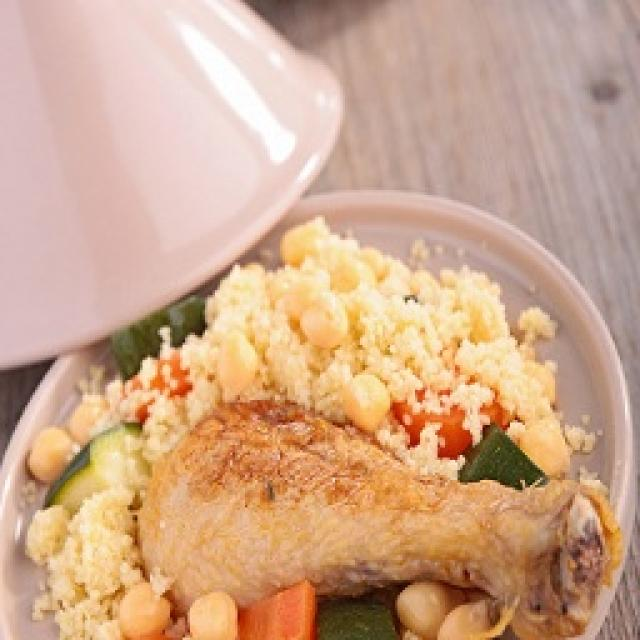Couscous: (29, 219, 595, 640), (320, 602, 398, 640)
